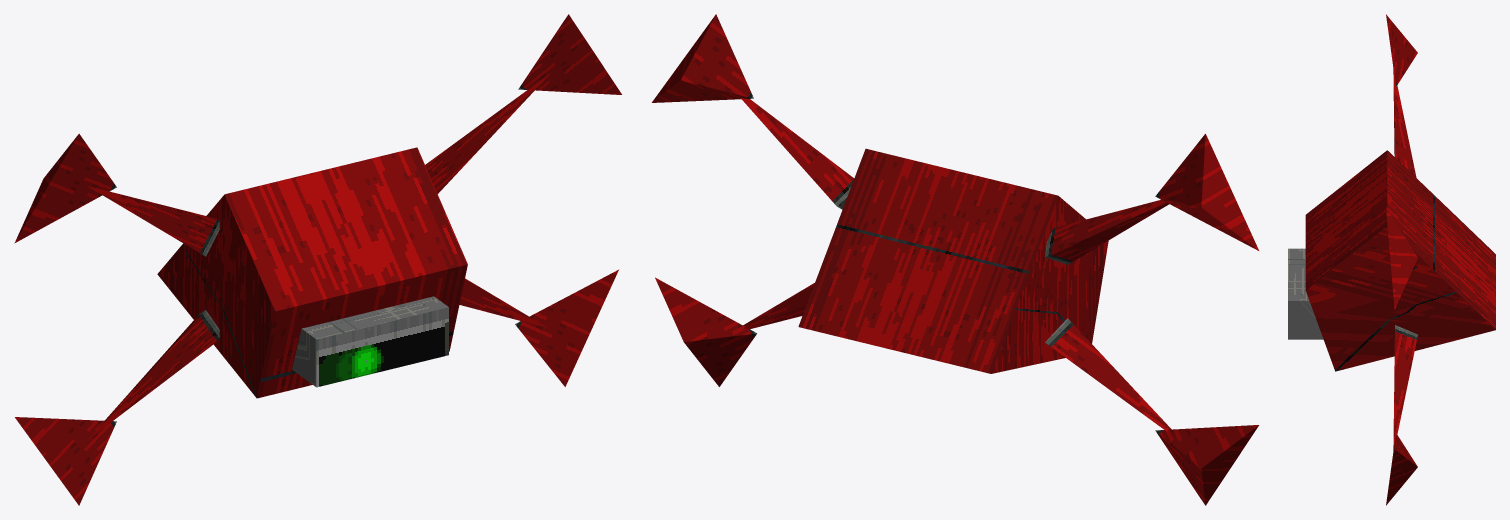
The model's file is model_036_robot_noname.glb.
3 views of the same model, side by side, from view 1: azimuth 30°, elevation 25°; view 2: azimuth 150°, elevation 25°; view 3: azimuth 270°, elevation 25° (orthographic). The views are drawn at different scales.
Visible parts, largest first — view 1: model_036; view 2: model_036; view 3: model_036.
Boxes of the visible parts, x1,y1,x2,y2 form: model_036: [14, 14, 621, 505]; model_036: [652, 14, 1258, 505]; model_036: [1288, 14, 1495, 505].
Size of the model in its own units: 9 by 5.27 by 3.3.
4 materials, 4 textured.
